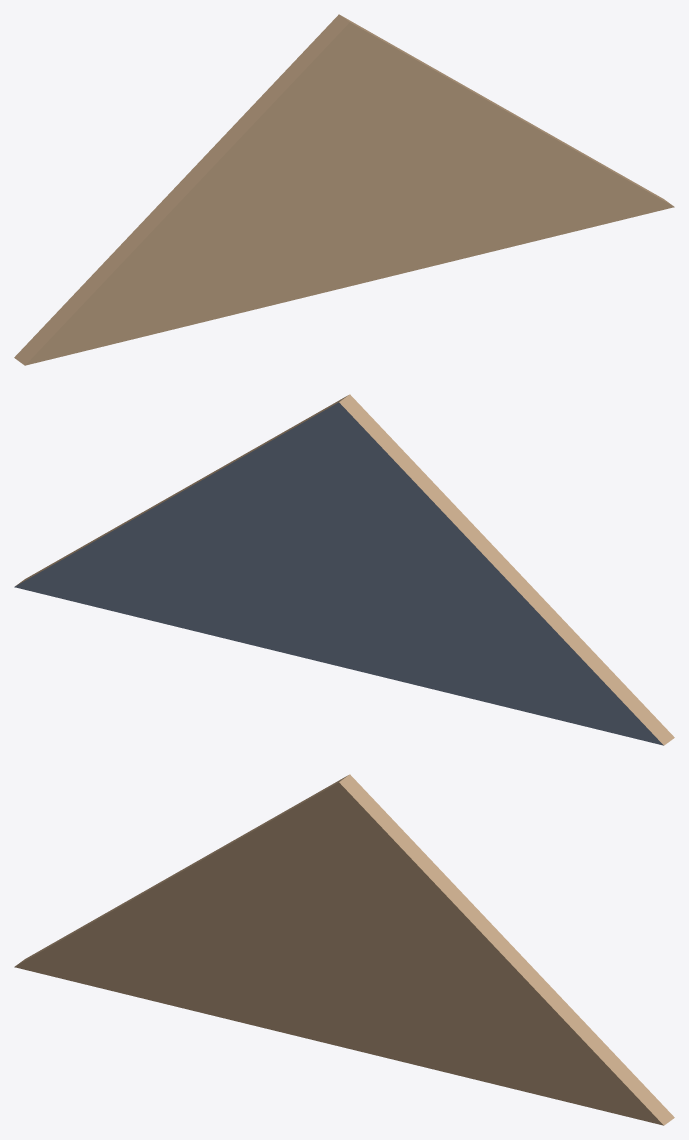
The model's file is Wall3_C3_16.fbx.
The picture shows the model from 3 angles, top to bottom: view 1: azimuth 30°, elevation 25°; view 2: azimuth 150°, elevation 25°; view 3: azimuth 330°, elevation 25°; orthographic projection.
Visible parts, largest first — view 1: Wall3_C3_16; view 2: Wall3_C3_16; view 3: Wall3_C3_16.
Part boxes in pixels (x1,y1,x2,y2): Wall3_C3_16: (14,14,674,365); Wall3_C3_16: (14,394,674,745); Wall3_C3_16: (14,774,674,1125).
Size of the model in its own units: 515 by 200 by 15.
